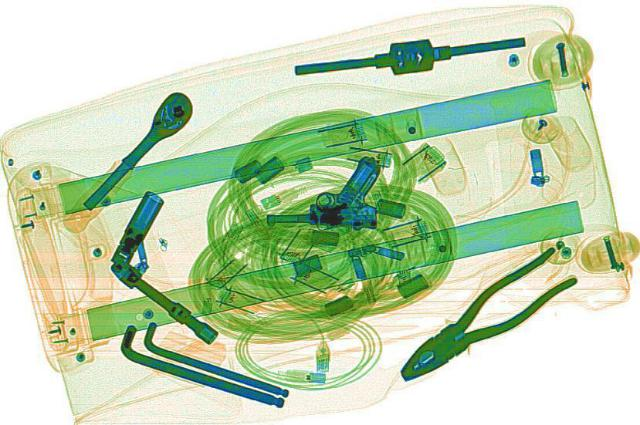Gun: (260, 154, 382, 229)
Pliers: (373, 242, 595, 390)
